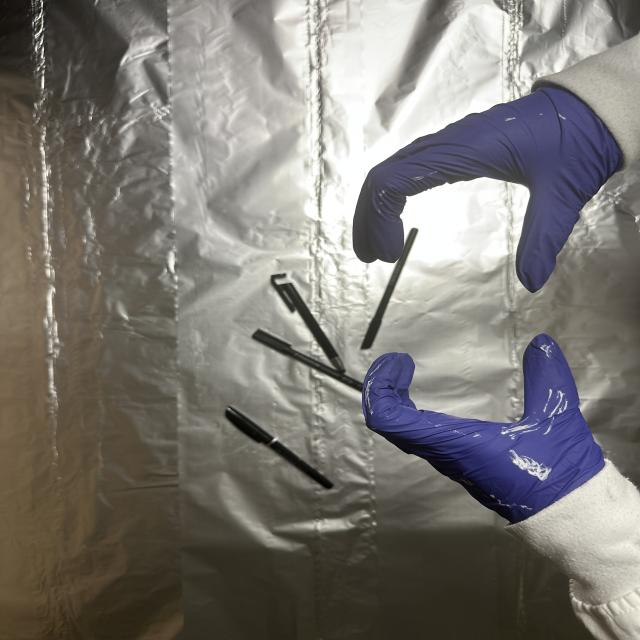gloves_contaminated: (353, 88, 623, 292), (362, 334, 604, 523)
